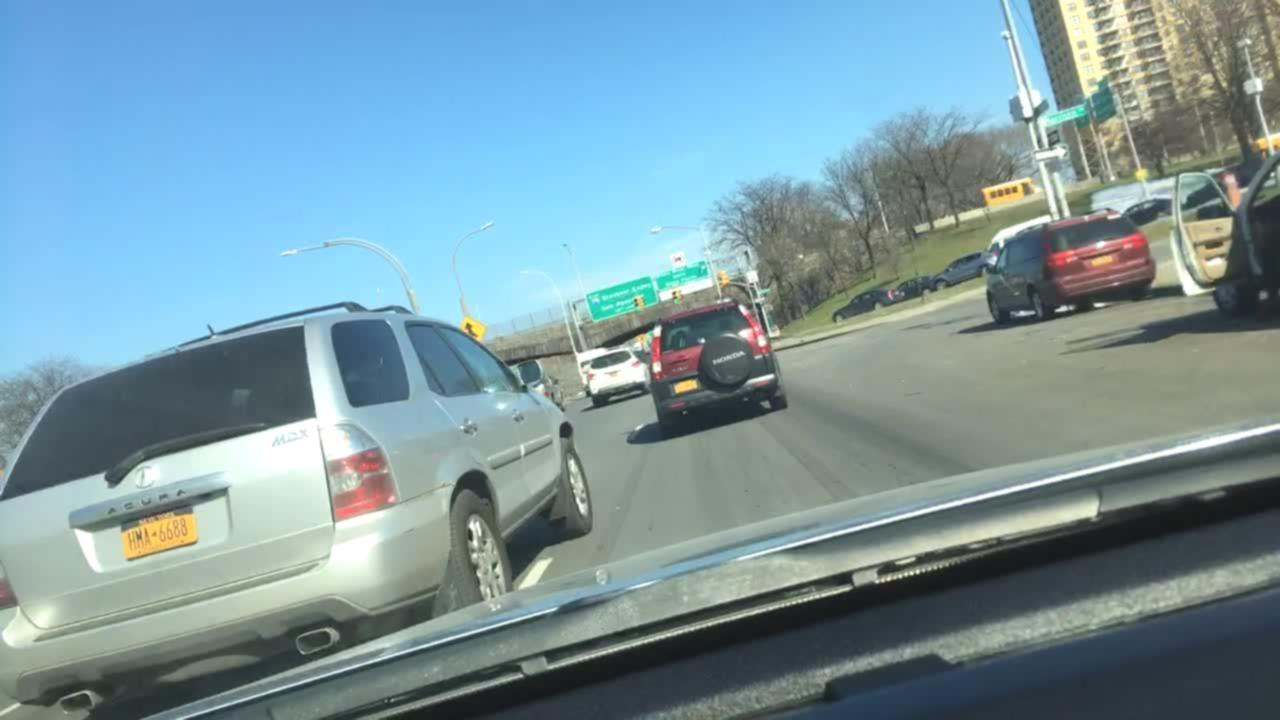acura: (126, 463, 161, 493)
